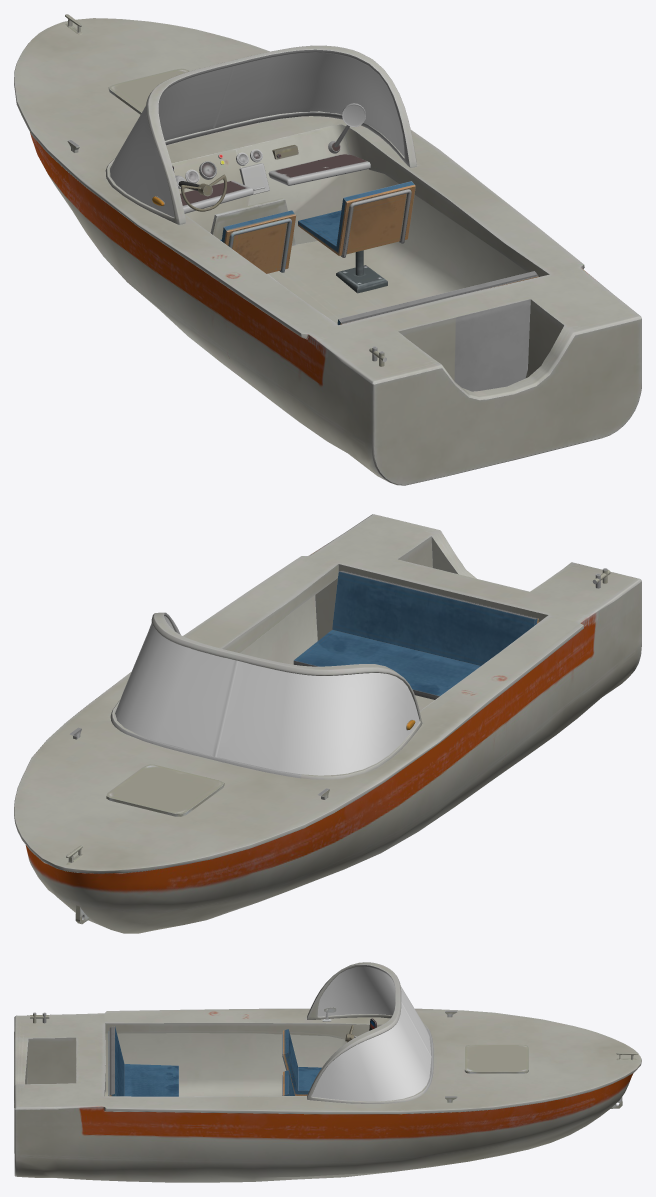
File: boat_skiff.glb
3 renders of one model, top to bottom at view 1: azimuth 30°, elevation 25°; view 2: azimuth 150°, elevation 25°; view 3: azimuth 270°, elevation 25°, orthographic. The views are drawn at different scales.
Visible parts, largest first — view 1: body; view 2: body; view 3: body.
Part boxes in pixels (x1=…): body: x1=14, y1=14, x2=641, y2=485; body: x1=14, y1=514, x2=641, y2=933; body: x1=14, y1=962, x2=641, y2=1182.
Bounding box in the file's own units: 1.81 × 1.36 × 4.62.
Materials: 5 (4 with a texture image).
